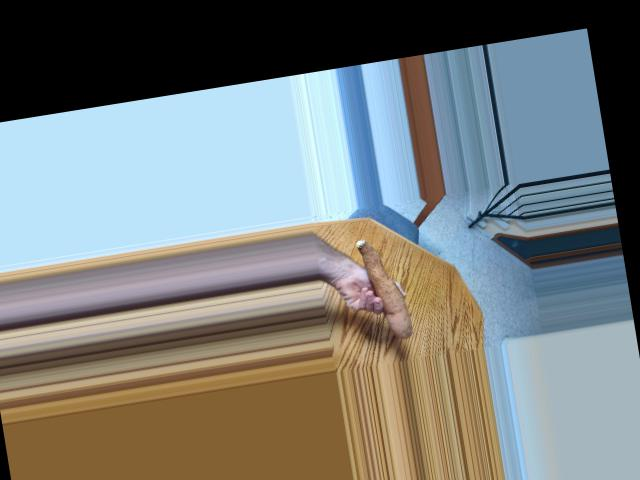sweet_potato: (345, 234, 418, 341)
